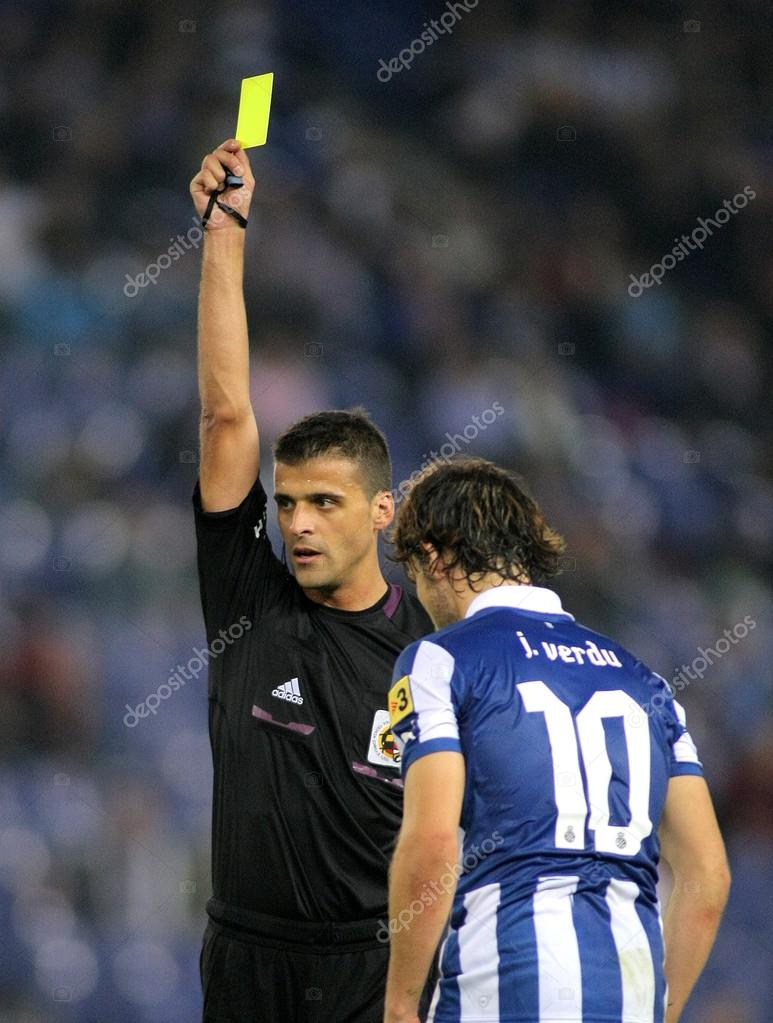yellow_card: (174, 59, 306, 229)
